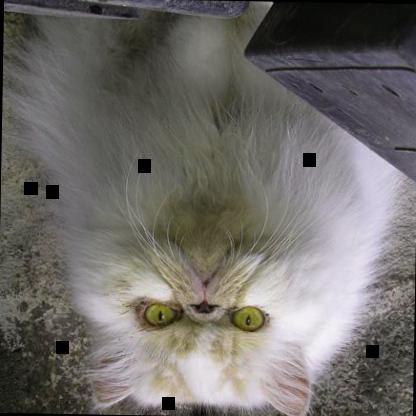cat: (9, 0, 397, 415)
